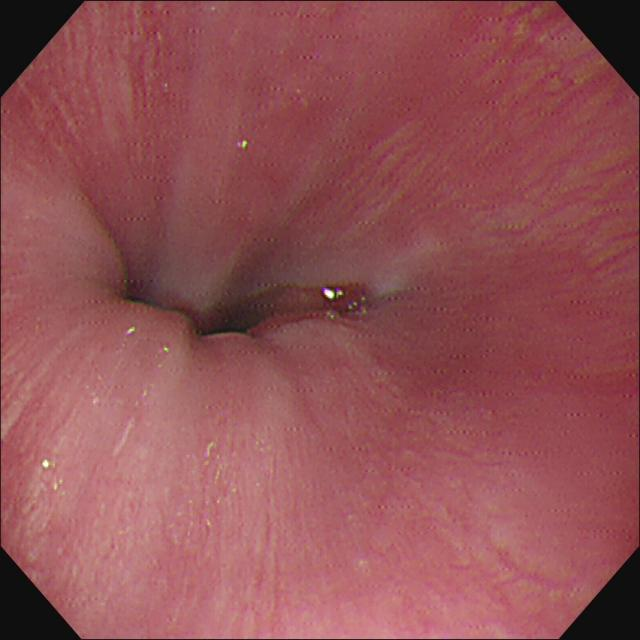I: (75, 182, 410, 418)
U: (324, 287, 347, 305)
